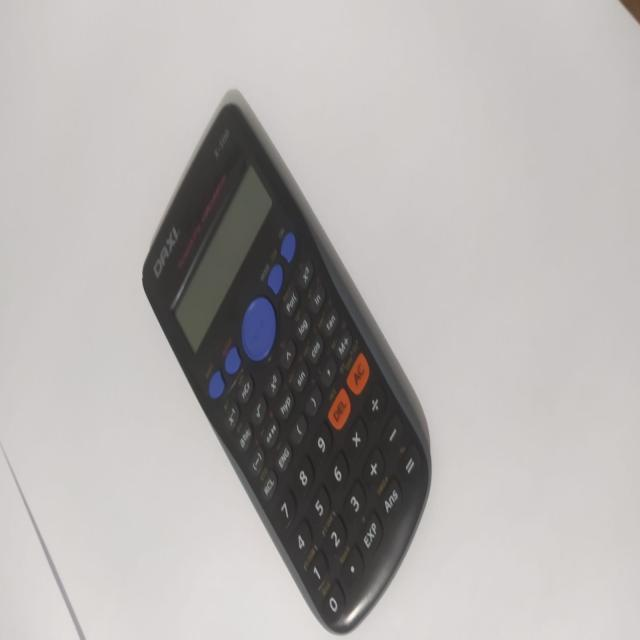Calculator: (138, 96, 432, 640)
